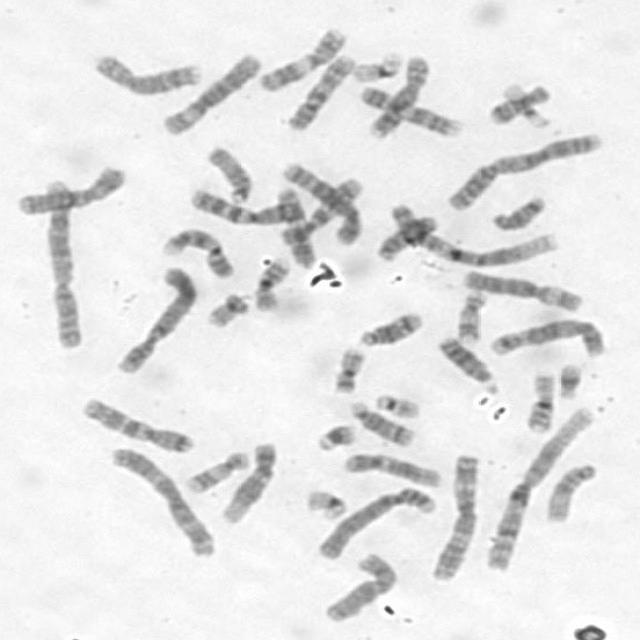A1: (482, 402, 596, 573), (382, 200, 561, 270)
A2: (440, 127, 608, 212), (38, 173, 87, 351)
A3: (103, 441, 218, 560), (427, 449, 481, 582)
B4: (109, 260, 201, 376), (312, 481, 439, 562)
B5: (278, 159, 364, 247), (484, 313, 610, 359)
C10: (282, 49, 357, 133), (278, 176, 368, 246)
C11: (255, 23, 350, 94), (272, 183, 318, 270)
C12: (216, 437, 280, 525), (339, 448, 444, 489)
C6: (159, 48, 264, 137), (457, 265, 585, 313)
C7: (76, 393, 196, 455), (188, 184, 299, 226)
C8: (364, 51, 430, 139), (88, 50, 204, 97)
C9: (356, 82, 464, 140), (156, 223, 237, 279)
D13: (434, 331, 501, 395), (372, 211, 442, 263)
D14: (347, 397, 417, 448), (354, 306, 426, 348)
D15: (539, 458, 600, 524), (203, 141, 256, 206)
E16: (519, 367, 559, 434), (250, 253, 294, 312)
E17: (181, 446, 251, 495), (451, 285, 489, 343)
E18: (485, 80, 553, 127), (487, 190, 548, 233)
F19: (346, 46, 404, 84), (302, 485, 350, 522)
F20: (328, 343, 369, 395), (202, 287, 252, 329)
G21: (311, 418, 359, 452), (554, 359, 586, 401)
G22: (492, 80, 553, 129), (371, 389, 423, 420)
X: (10, 160, 129, 217), (317, 548, 400, 624)
